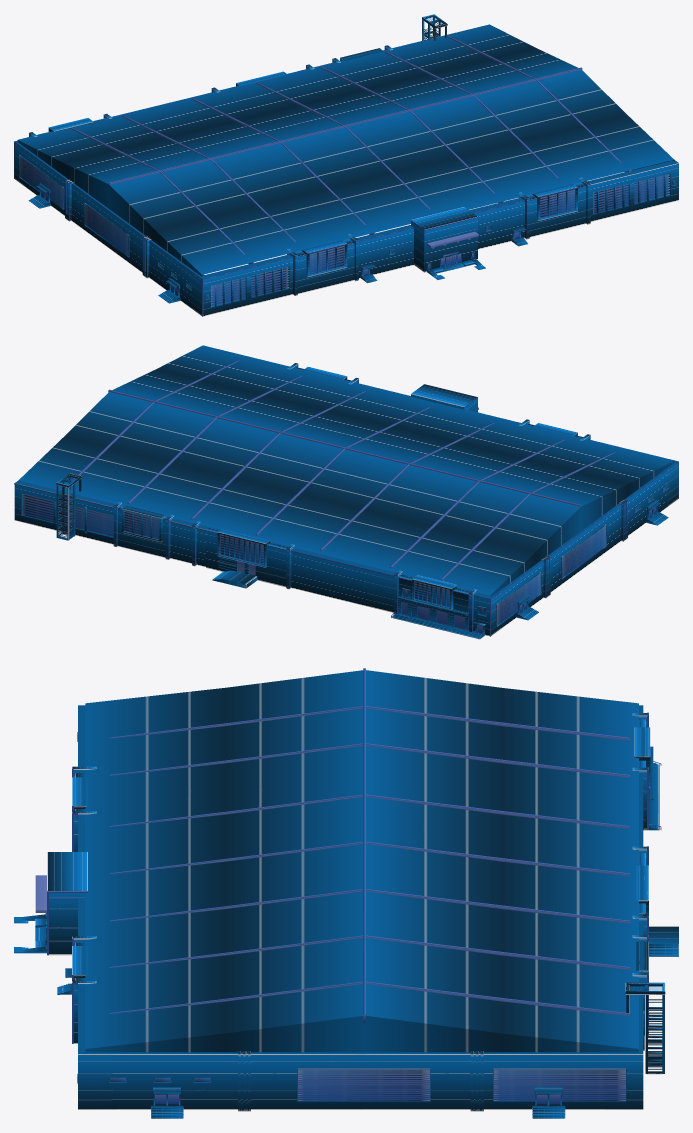
File: 科幻数据中心.obj
3 renders of one model, top to bottom at view 1: azimuth 30°, elevation 25°; view 2: azimuth 150°, elevation 25°; view 3: azimuth 270°, elevation 25°, orthographic. The views are drawn at different scales.
Bounding box in the file's own units: 9401 × 1140 × 7228.
